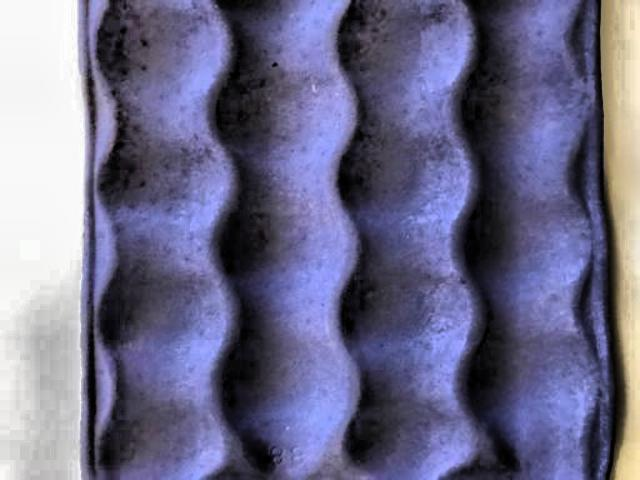Paper: (77, 0, 613, 480)
